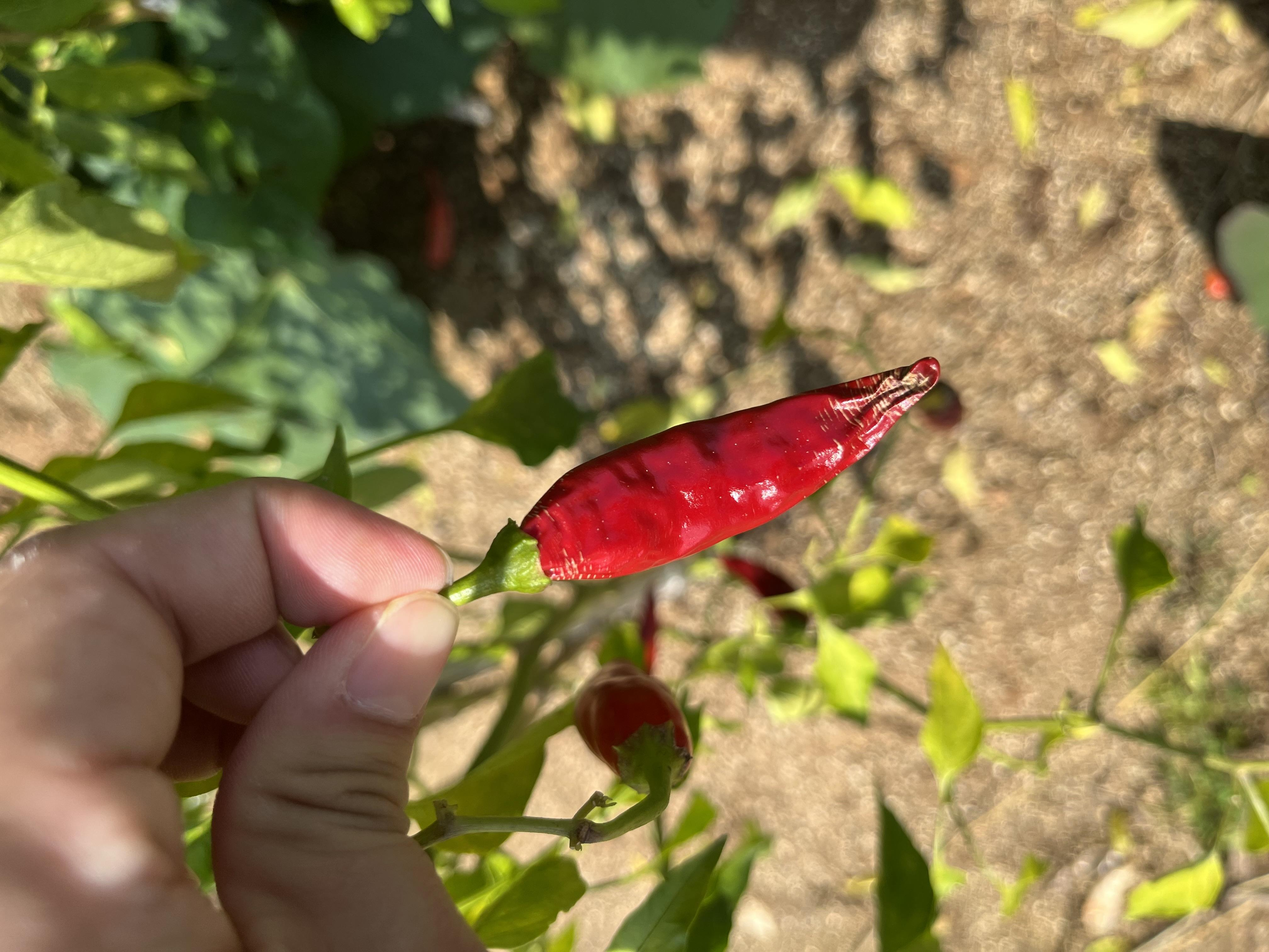Buah Cabai Sehat: (474, 340, 794, 716)
